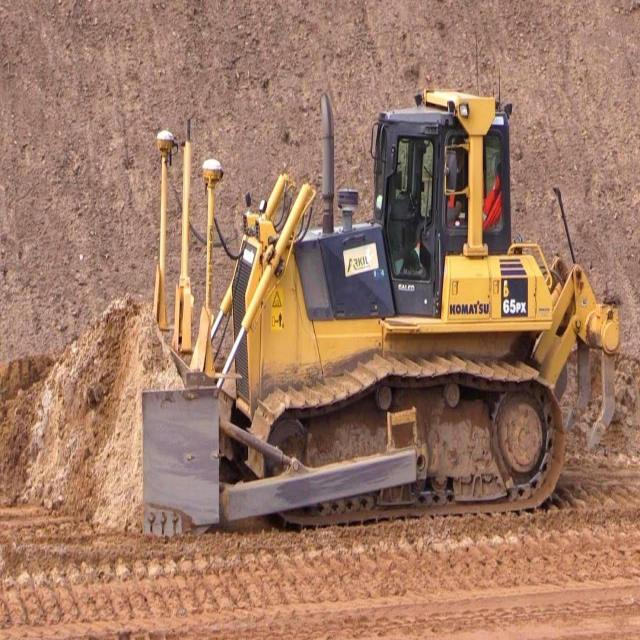Bulldozer: (120, 69, 622, 591)
